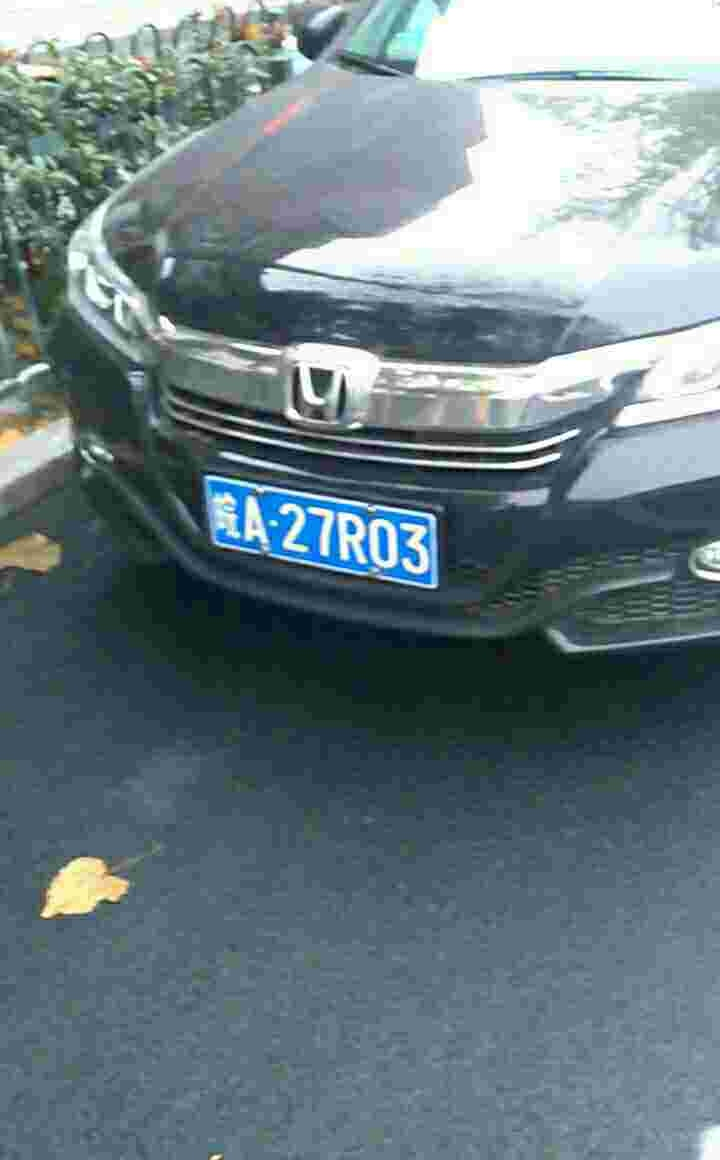license_plate: (209, 482, 450, 577)
